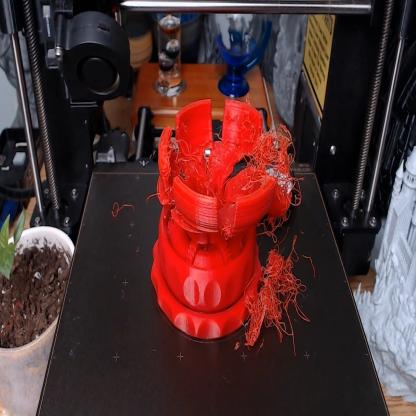fail: (240, 245, 322, 362), (251, 124, 306, 213)
